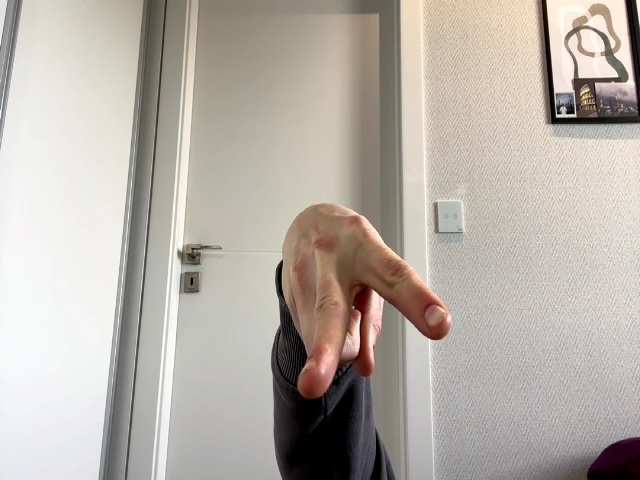U: (282, 204, 453, 399)
